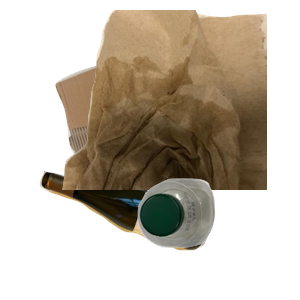cardboard: (53, 45, 221, 204)
glass: (37, 168, 242, 300)
plastic: (135, 176, 300, 300)
trash: (60, 10, 300, 190)
